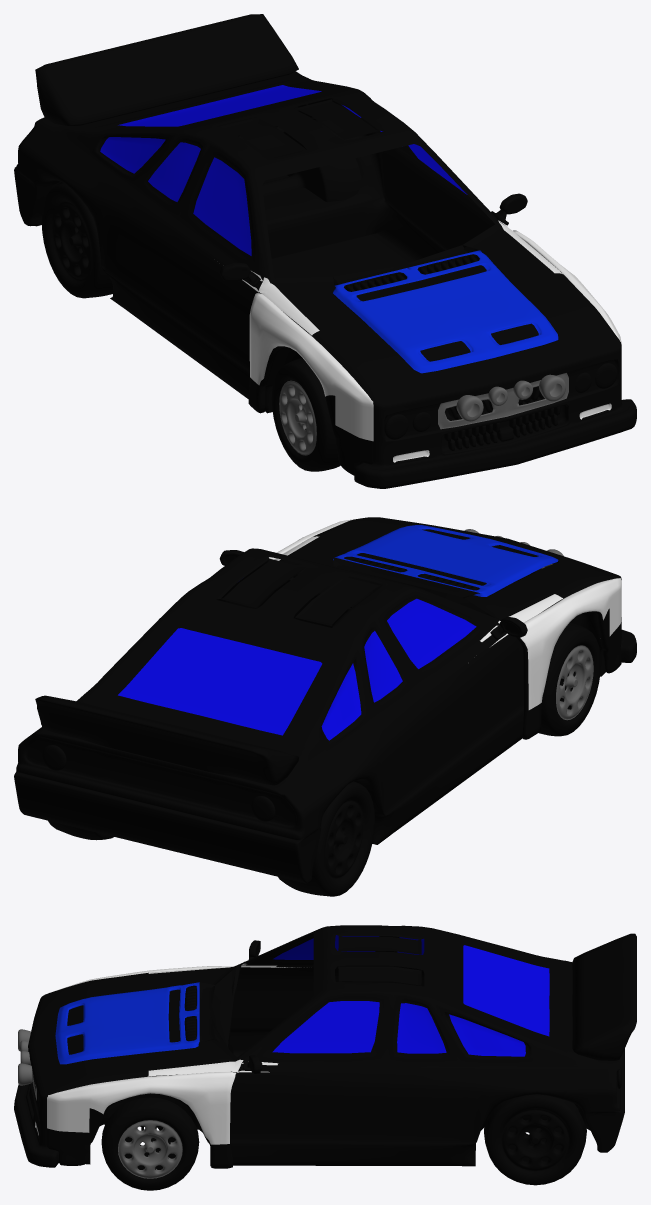
File: Voiture2.fbx
3 views of the same model, one above another, from view 1: azimuth 30°, elevation 25°; view 2: azimuth 150°, elevation 25°; view 3: azimuth 270°, elevation 25° (orthographic). The views are drawn at different scales.
Parts seen in each view (by area): view 1: Cube.001; view 2: Cube.001; view 3: Cube.001.
Boxes of the visible parts, x1,y1,x2,y2 form: Cube.001: (14, 14, 636, 488); Cube.001: (14, 517, 636, 896); Cube.001: (14, 925, 636, 1190).
Bounding box in the file's own units: 915 × 603 × 1910.
